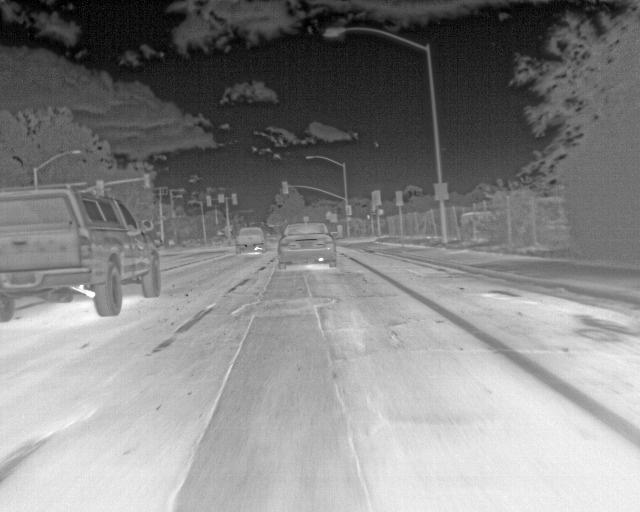car: (0, 185, 162, 325), (277, 220, 336, 271), (236, 225, 266, 253)
